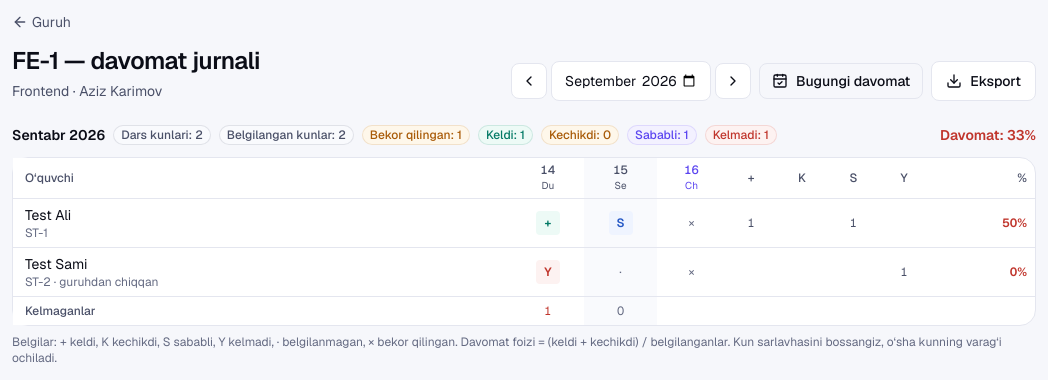
GroupAttendanceJournalPage › oldingi oyga o‘tish URL va so‘rovni yangilaydi
The width and height of the screenshot is (1048, 380).
Expected: the text "Sentabr 2026" is shown, 12,125 -> 105,145
Click the button named "Oldingi oy".
click(529, 81)  # box 511,63 -> 547,99
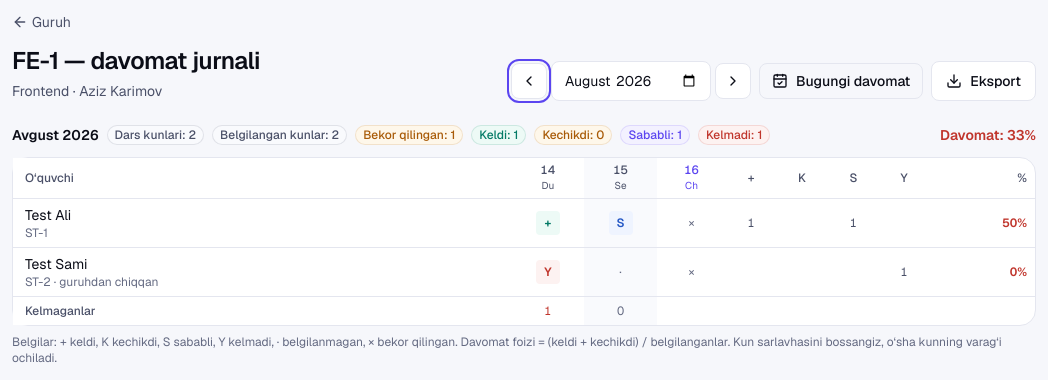
Result: the text "Avgust 2026" is shown at 12,125 -> 98,145
